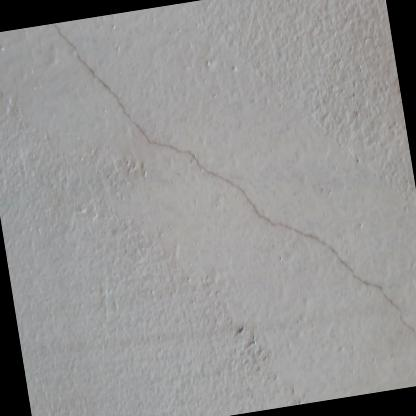crack: (54, 23, 416, 340)
